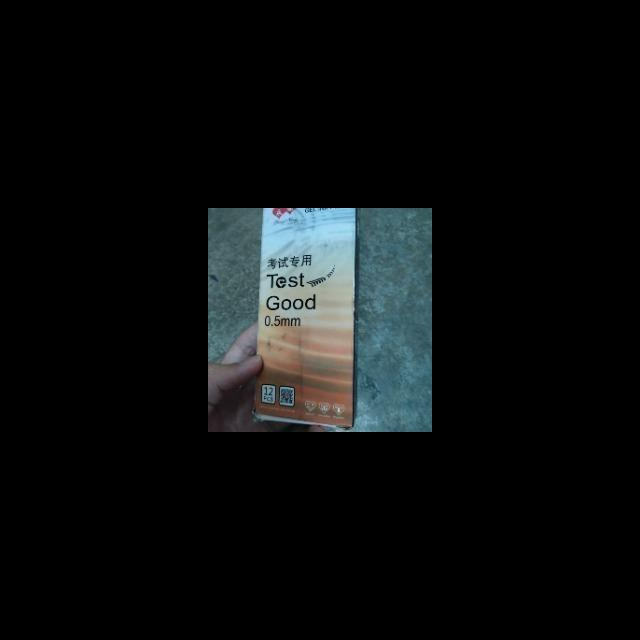paper: (242, 208, 369, 432)
